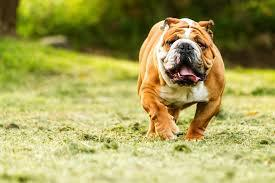dog: (135, 15, 226, 139)
